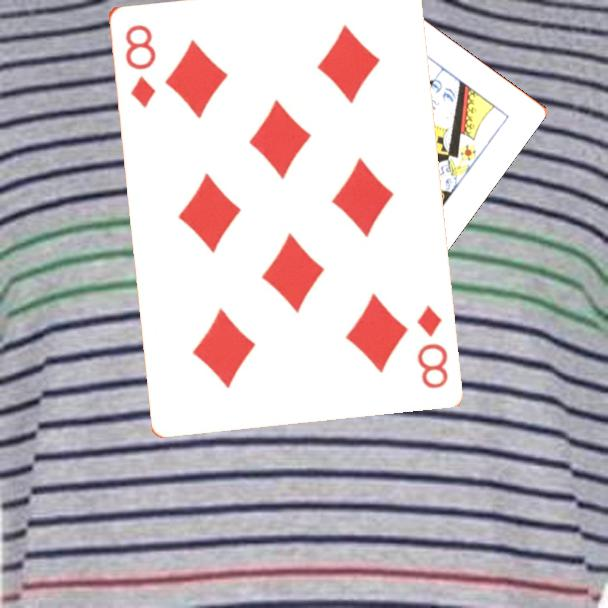d08: (121, 20, 159, 111), (413, 301, 451, 391)
